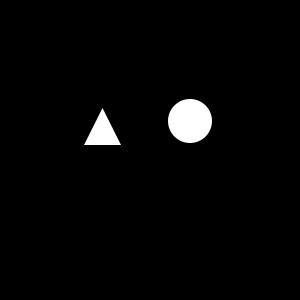rectangle: (168, 99, 212, 143)
triangle: (84, 108, 121, 145)
